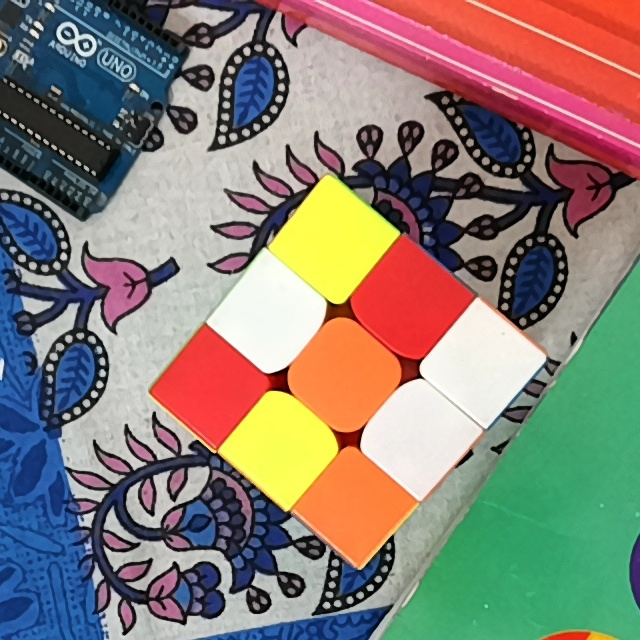tile: (376, 268, 443, 332), (312, 343, 376, 408), (249, 418, 312, 480), (302, 214, 363, 276), (179, 360, 240, 422), (388, 405, 446, 470), (241, 284, 300, 347), (321, 476, 384, 534), (455, 331, 514, 391)
